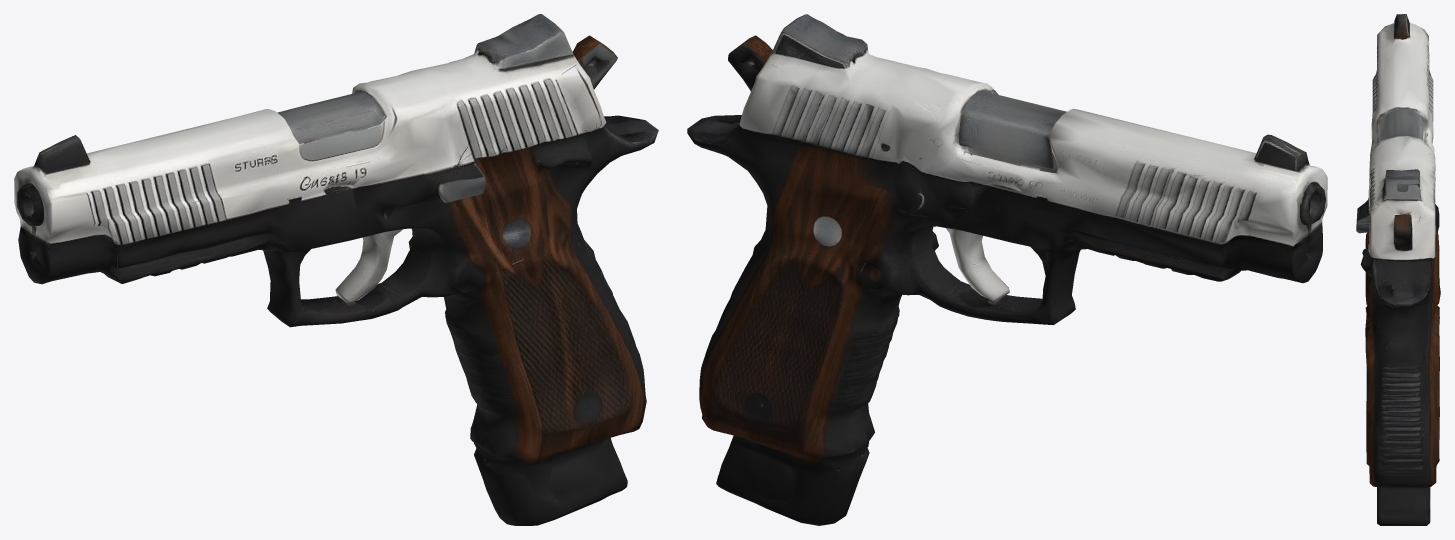
The model's file is pistol-web.glb.
3 views of the same model, side by side, from view 1: azimuth 30°, elevation 25°; view 2: azimuth 150°, elevation 25°; view 3: azimuth 270°, elevation 25° (orthographic). The views are drawn at different scales.
Visible parts, largest first — view 1: Mesh_0; view 2: Mesh_0; view 3: Mesh_0.
Part boxes in pixels (x1,y1,x2,y2): Mesh_0: (14,14,658,525); Mesh_0: (687,14,1327,525); Mesh_0: (1356,14,1440,525).
Size of the model in its own units: 1.92 by 1.43 by 0.3226.
1 material, 1 textured.
